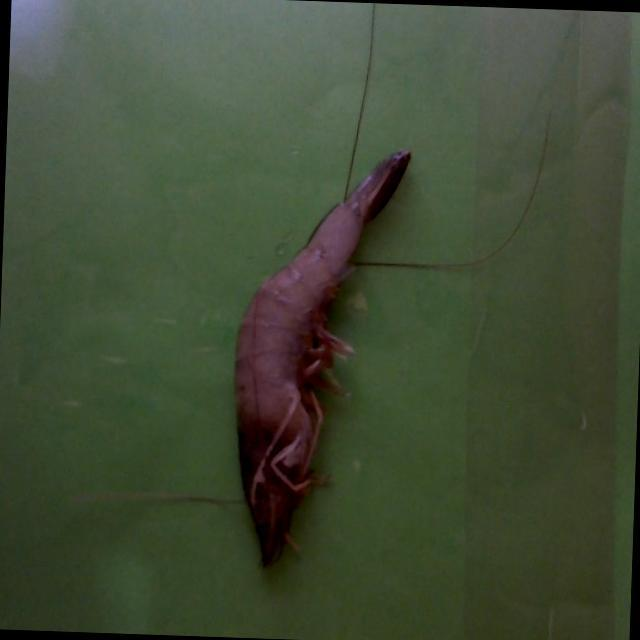shrimp: (235, 149, 410, 564)
